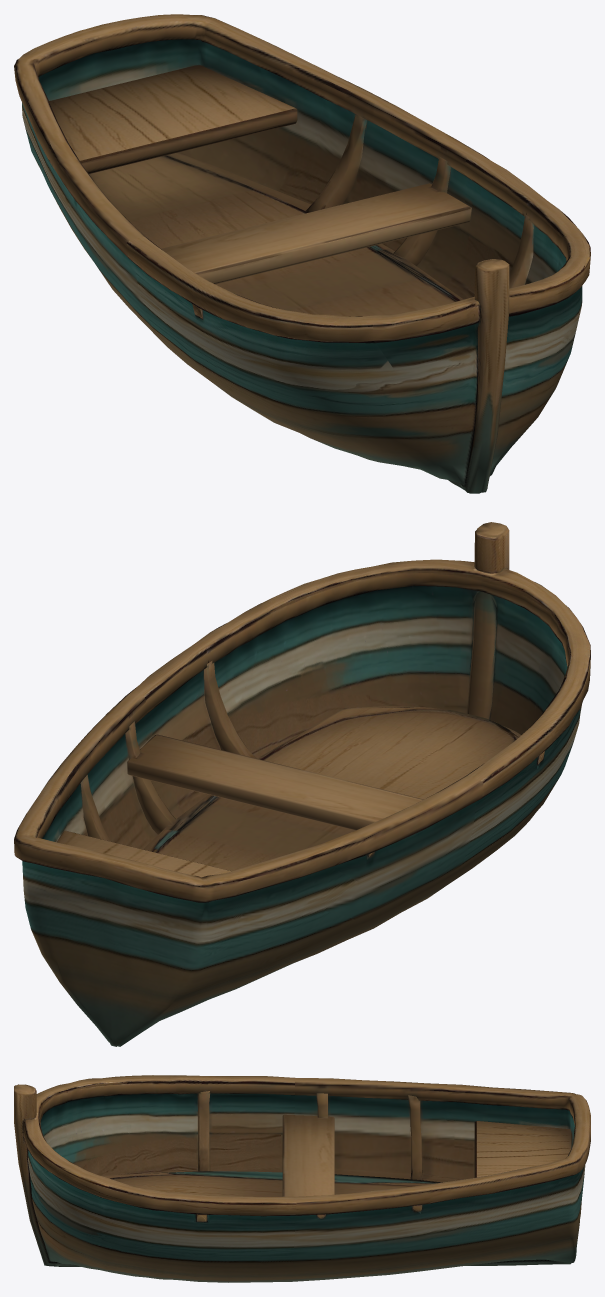
File: Wood_Boat_01.fbx
3 views of the same model, one above another, from view 1: azimuth 30°, elevation 25°; view 2: azimuth 150°, elevation 25°; view 3: azimuth 270°, elevation 25° (orthographic). The views are drawn at different scales.
Parts seen in each view (by area): view 1: Wood_Boat_01; view 2: Wood_Boat_01; view 3: Wood_Boat_01.
Part boxes in pixels (x1,y1,x2,y2): Wood_Boat_01: [14, 14, 590, 493]; Wood_Boat_01: [14, 522, 590, 1046]; Wood_Boat_01: [14, 1075, 590, 1282].
Bounding box in the file's own units: 626 × 401 × 1198.
